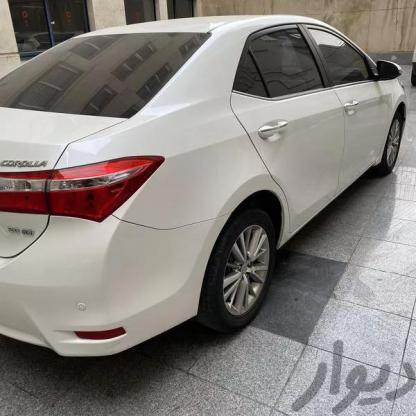Car: (0, 16, 416, 360)
